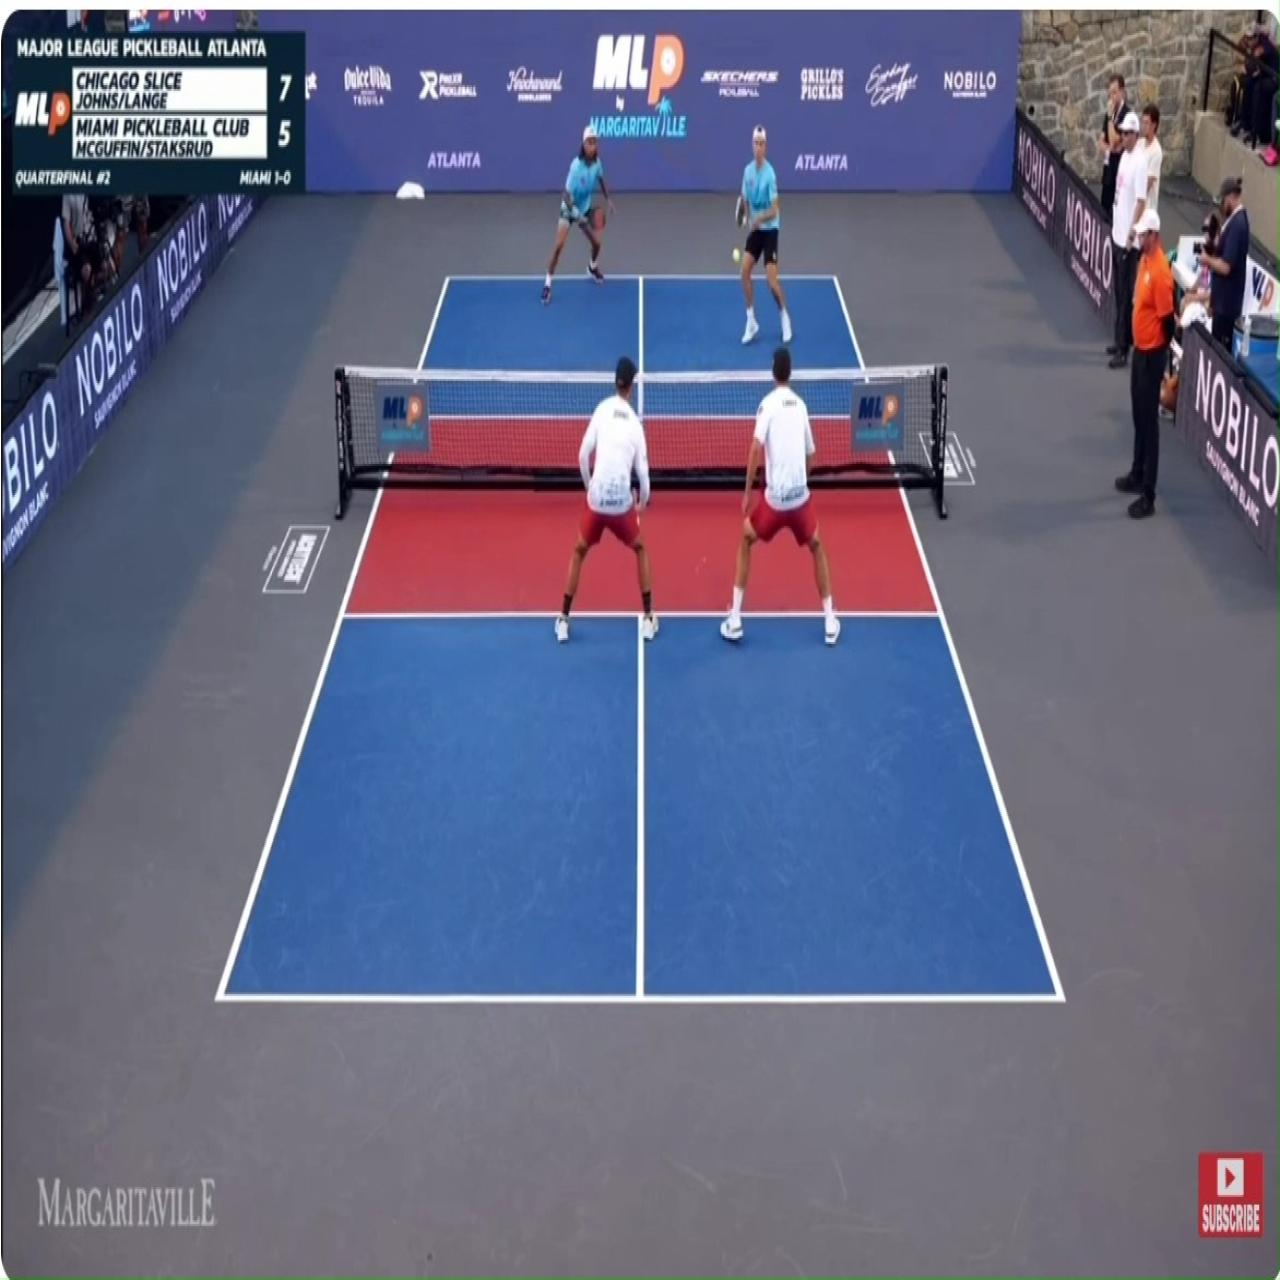pickleball: (731, 247, 741, 263)
